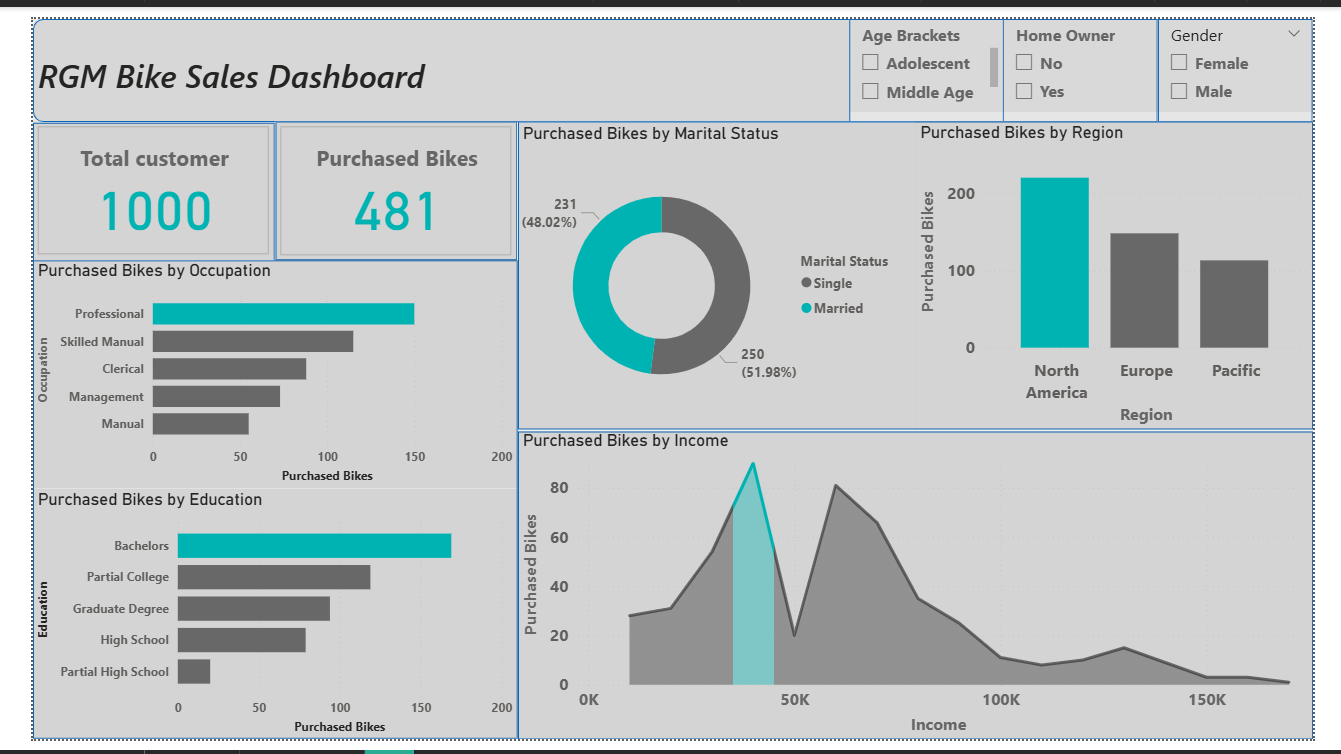

The dashboard page shown, as its layout file describes it:
{"tool":"powerbi","page":{"name":"Dashboard","canvas":[1280,720],"ordinal":0},"visuals":[{"type":"shape","box":[0,0,1279.8,103.1],"z":0},{"type":"shape","box":[0,241.7,484.7,478.5],"z":1000},{"type":"shape","box":[0,104.3,241.7,138.7],"z":2000},{"type":"shape","box":[242.9,103.1,241.7,138.7],"z":3000},{"type":"shape","box":[970.6,0,154.6,103.1],"z":4000},{"type":"shape","box":[484.7,412.3,795.1,308],"z":5000},{"type":"shape","box":[1125.2,0,154.6,103.1],"z":6000},{"type":"shape","box":[816,0,154.6,103.1],"z":7000},{"type":"shape","box":[484.7,103.1,795.1,308],"z":8000},{"type":"barChart","fields":{"Category":["Working sheet.Occupation"],"Y":["Working sheet.Number of purchased Bikes"]},"box":[0,241.7,484.7,228.2],"z":9000},{"type":"barChart","fields":{"Category":["Working sheet.Education"],"Y":["Working sheet.Number of purchased Bikes"]},"box":[0,469.9,484.7,250.3],"z":10000},{"type":"cardVisual","fields":{"Data":["Working sheet.Number of purchased Bikes"]},"box":[242.9,103.1,241.7,139.9],"z":11000},{"type":"cardVisual","fields":{"Data":["Working sheet.Total customer"]},"box":[0,103.1,241.7,138.7],"z":12000},{"type":"areaChart","fields":{"Y":["Working sheet.Number of purchased Bikes"],"Category":["Working sheet.Income"]},"box":[484.7,411,795.1,309.2],"z":13000},{"type":"columnChart","fields":{"Y":["Working sheet.Number of purchased Bikes"],"Category":["Working sheet.Region"]},"box":[882.2,103.1,397.5,308],"z":14000},{"type":"donutChart","fields":{"Y":["Working sheet.Number of purchased Bikes"],"Category":["Working sheet.Marital Status"]},"box":[484.7,104.3,397.5,306.8],"z":15000},{"type":"slicer","fields":{"Values":["Working sheet.Age Brackets"]},"box":[816.2,0,153.8,92.5],"z":16000},{"type":"slicer","fields":{"Values":["Working sheet.Home Owner"]},"box":[970,0,155,92.5],"z":17000},{"type":"slicer","fields":{"Values":["Working sheet.Gender"]},"box":[1125,0,155,92.5],"z":18000},{"type":"textbox","box":[0,30,537.5,72.5],"z":19000}]}

Visuals, with their boxes in screenshot pixels (x1, y1, x2, y2), scaled from the page's 1280x720 canvas onto the 1341x754 screenshot:
shape: [x1=0, y1=0, x2=1340, y2=108]
shape: [x1=0, y1=253, x2=508, y2=753]
shape: [x1=0, y1=109, x2=253, y2=254]
shape: [x1=254, y1=108, x2=508, y2=253]
shape: [x1=1017, y1=0, x2=1179, y2=108]
shape: [x1=508, y1=432, x2=1340, y2=753]
shape: [x1=1179, y1=0, x2=1340, y2=108]
shape: [x1=855, y1=0, x2=1017, y2=108]
shape: [x1=508, y1=108, x2=1340, y2=431]
barChart - Working sheet.Occupation x Working sheet.Number of purchased Bikes: [x1=0, y1=253, x2=508, y2=492]
barChart - Working sheet.Education x Working sheet.Number of purchased Bikes: [x1=0, y1=492, x2=508, y2=753]
cardVisual - Working sheet.Number of purchased Bikes: [x1=254, y1=108, x2=508, y2=254]
cardVisual - Working sheet.Total customer: [x1=0, y1=108, x2=253, y2=253]
areaChart - Working sheet.Number of purchased Bikes x Working sheet.Income: [x1=508, y1=430, x2=1340, y2=753]
columnChart - Working sheet.Number of purchased Bikes x Working sheet.Region: [x1=924, y1=108, x2=1340, y2=431]
donutChart - Working sheet.Number of purchased Bikes x Working sheet.Marital Status: [x1=508, y1=109, x2=924, y2=431]
slicer - Working sheet.Age Brackets: [x1=855, y1=0, x2=1016, y2=97]
slicer - Working sheet.Home Owner: [x1=1016, y1=0, x2=1179, y2=97]
slicer - Working sheet.Gender: [x1=1179, y1=0, x2=1340, y2=97]
textbox: [x1=0, y1=31, x2=563, y2=107]
